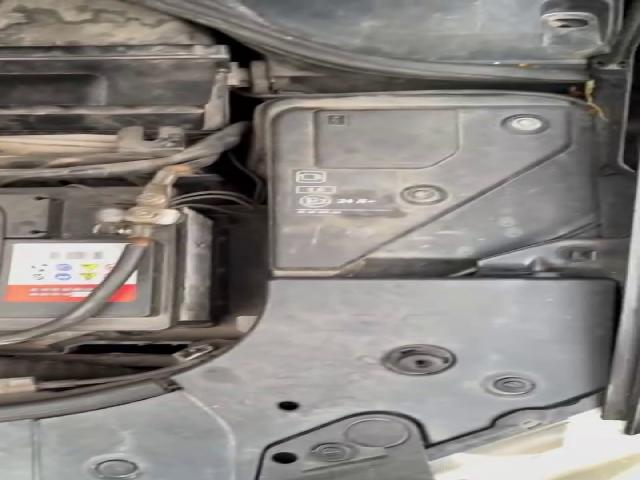accumulator: (0, 186, 225, 333)
fuse_box: (272, 105, 592, 271)
